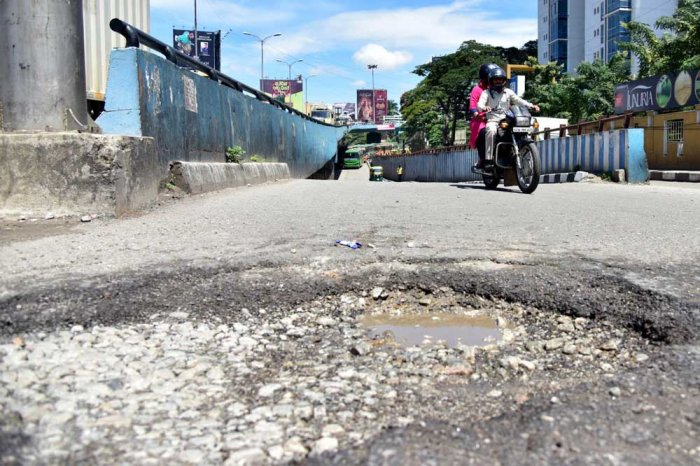pothole: (263, 271, 617, 412)
